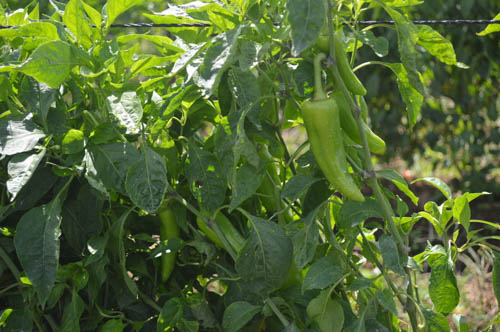ChiliPepper: (302, 97, 361, 203), (331, 89, 389, 152), (317, 39, 366, 95), (255, 144, 291, 219), (196, 209, 251, 252), (155, 210, 182, 283)
